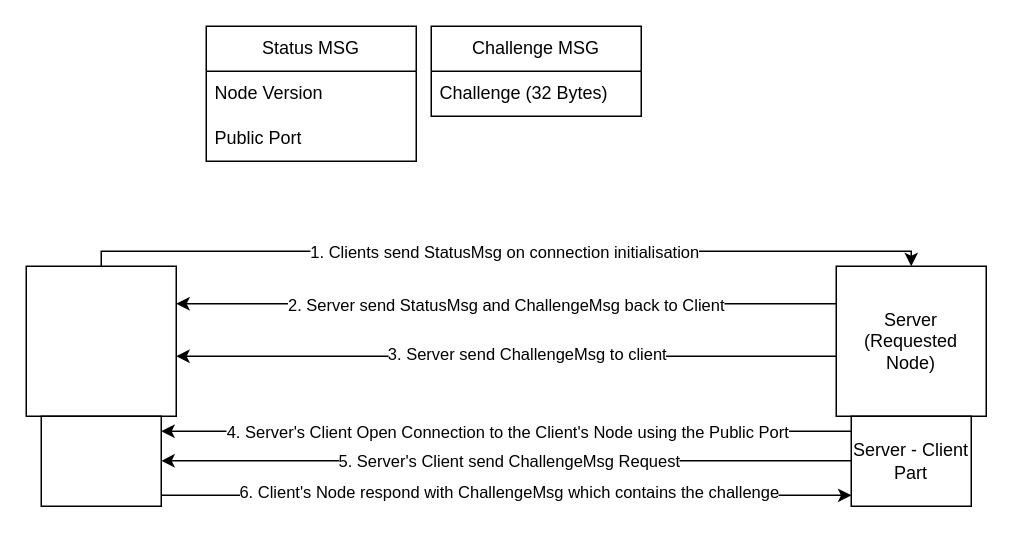
Image size: 1013x534. Some labels were removed from this diagram. The shapes that lost their labels are listed below. From the top down, each one's centre as x and y in pixels, then its label:
[100,340]: Client (Joining Node)
[100,460]: Client - Node Part
